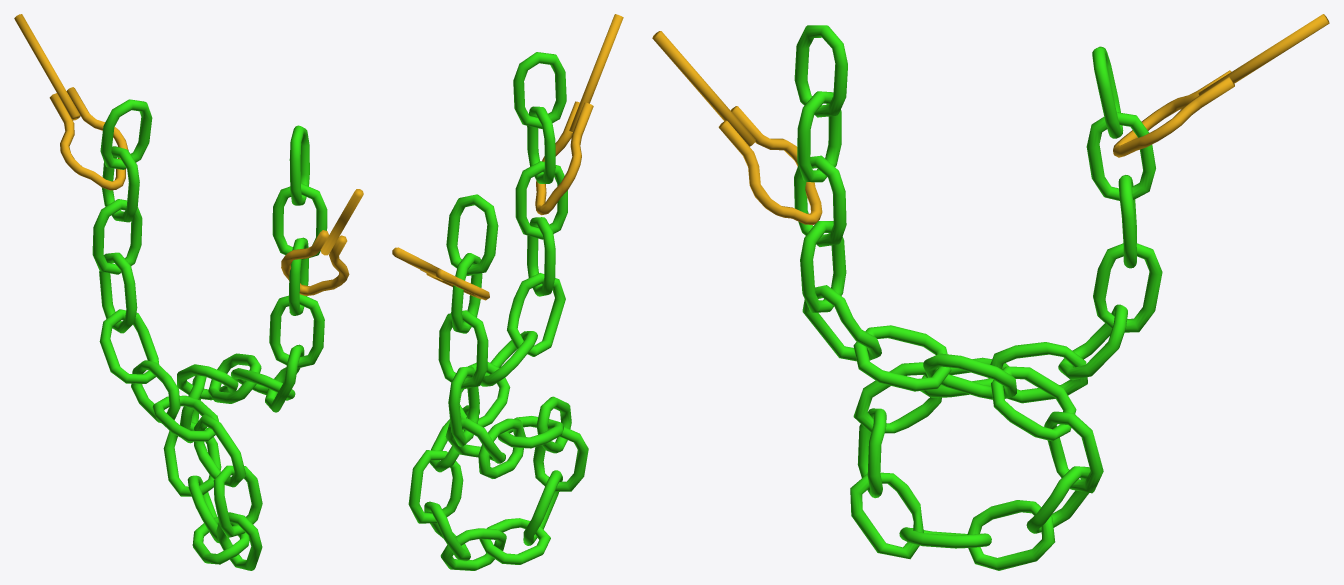
Rendered from Pipe cables.fbx.
3 views of the same model, side by side, from view 1: azimuth 30°, elevation 25°; view 2: azimuth 150°, elevation 25°; view 3: azimuth 270°, elevation 25° (orthographic). The views are drawn at different scales.
Parts seen in each view (by area): view 1: BezierCircle.012; view 2: BezierCircle.012; view 3: BezierCircle.012.
Boxes of the visible parts, left/top/right/bottom form: BezierCircle.012: left=14, top=14, right=363, bottom=570; BezierCircle.012: left=392, top=14, right=623, bottom=570; BezierCircle.012: left=652, top=14, right=1329, bottom=570.
Bounding box in the file's own units: 4.09 × 15.87 × 17.72.
